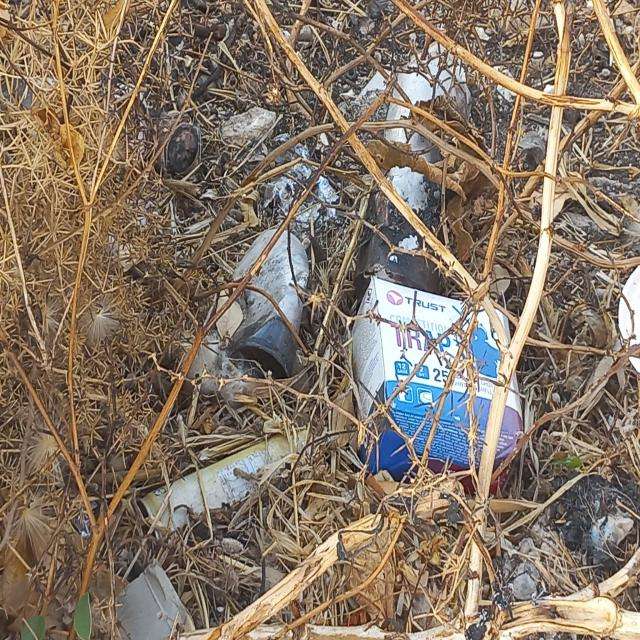Can: (135, 424, 316, 548), (226, 226, 311, 378)
Carton: (346, 281, 524, 498)
Cup: (108, 558, 193, 640)
Other litter: (353, 38, 481, 296), (261, 134, 356, 243), (157, 108, 200, 178)
Other plastic: (617, 260, 640, 377)
